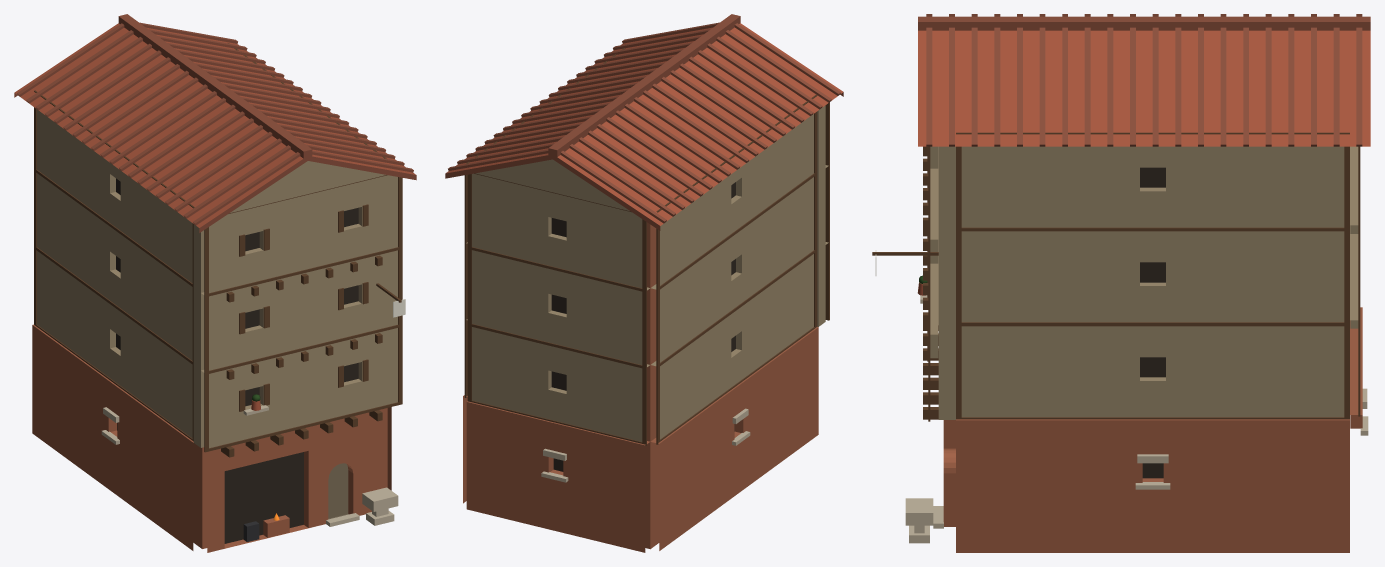
File: rome_insula_c.glb
The picture shows the model from 3 angles, left to right: view 1: azimuth 30°, elevation 25°; view 2: azimuth 150°, elevation 25°; view 3: azimuth 270°, elevation 25°; orthographic projection. The views are drawn at different scales.
Visible parts, largest first — view 1: rome_insula_c; view 2: rome_insula_c; view 3: rome_insula_c.
Part boxes in pixels (x1,y1,x2,y2): rome_insula_c: (14,14,416,552); rome_insula_c: (445,14,843,552); rome_insula_c: (872,14,1370,552).
Size of the model in its own units: 8.87 by 15.02 by 14.29.
